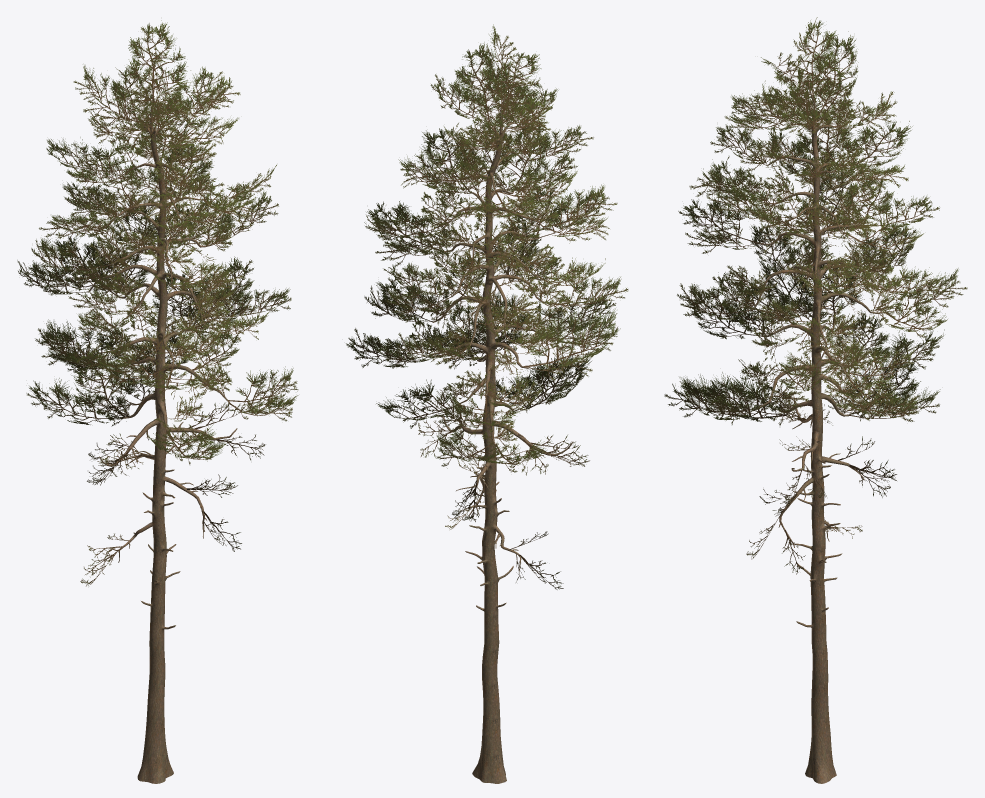
Rendered from SM_Pine_02.fbx.
3 views of the same model, side by side, from view 1: azimuth 30°, elevation 25°; view 2: azimuth 150°, elevation 25°; view 3: azimuth 270°, elevation 25° (orthographic).
Visible parts, largest first — view 1: SM_Pine_02_LOD0; view 2: SM_Pine_02_LOD0; view 3: SM_Pine_02_LOD0.
Boxes of the visible parts, x1,y1,x2,y2 form: SM_Pine_02_LOD0: (17, 20, 298, 783); SM_Pine_02_LOD0: (346, 24, 628, 783); SM_Pine_02_LOD0: (664, 17, 967, 783).
Size of what is drawn, in the model's own units: 946 by 2704 by 998.
Materials: 2 (2 with a texture image).
